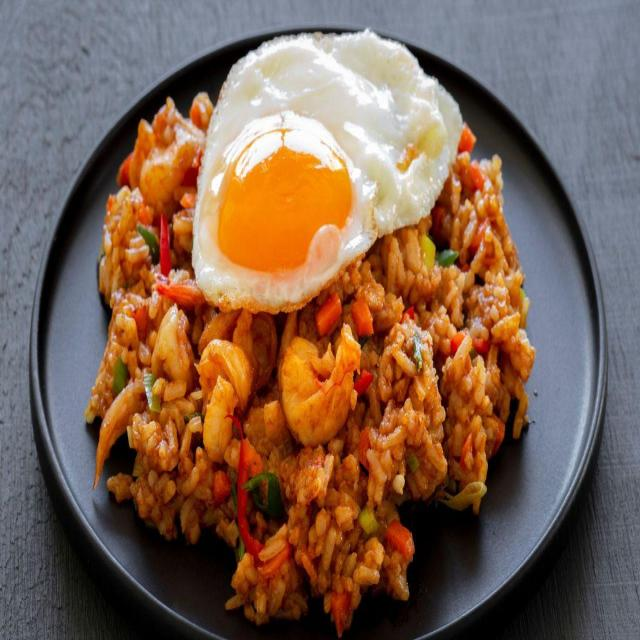Nasi Goreng: (88, 94, 526, 580)
